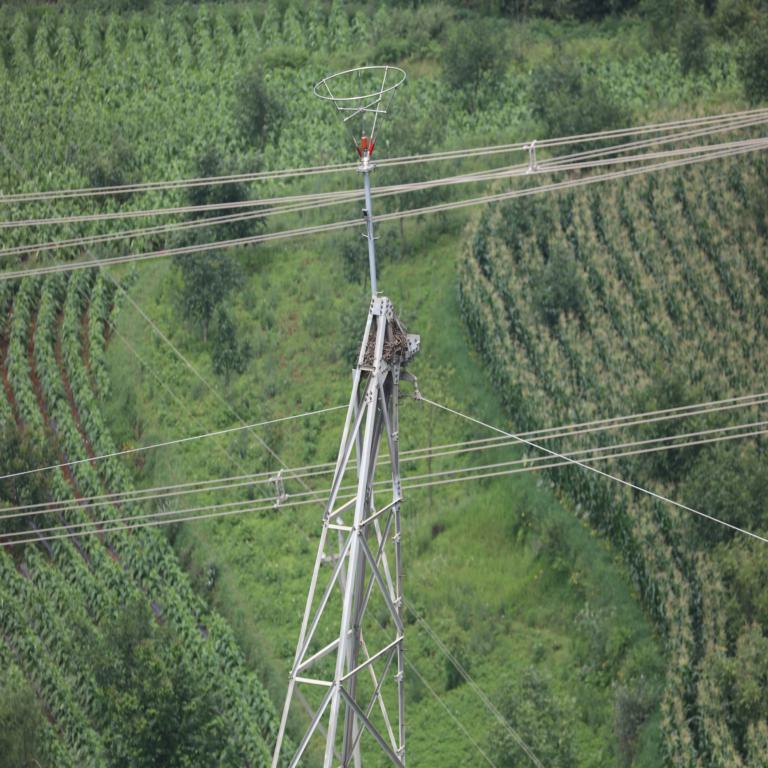nest: (362, 321, 408, 373)
